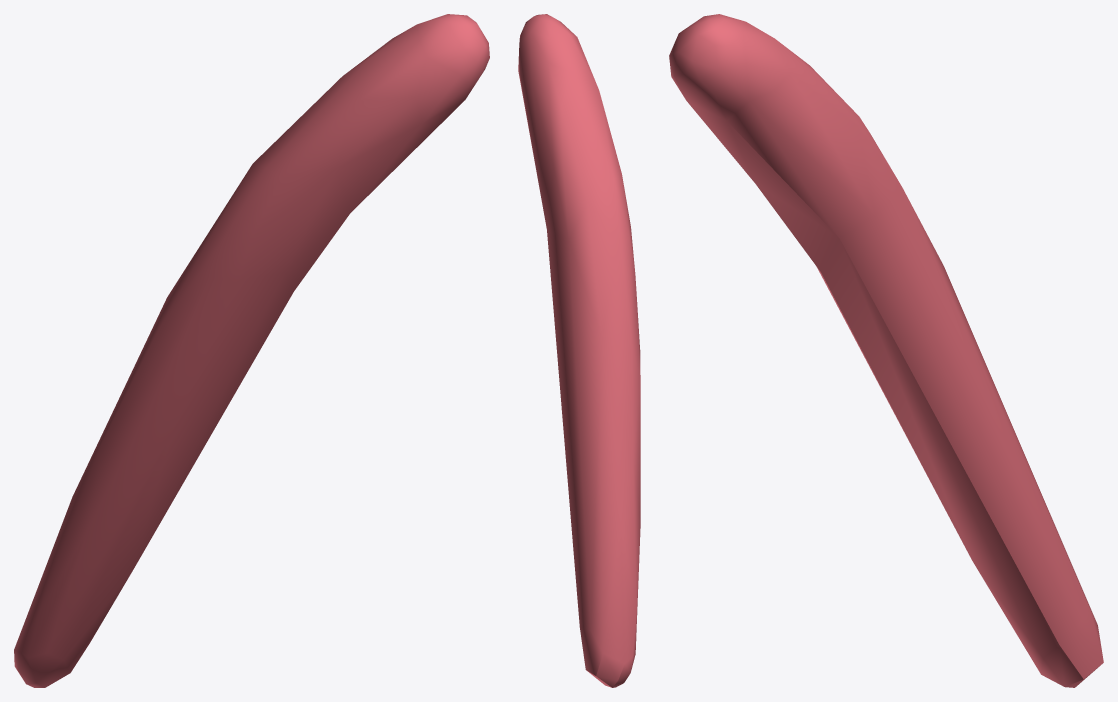
The model's file is fma9425_fj6117.glb.
3 renders of one model, left to right at view 1: azimuth 30°, elevation 25°; view 2: azimuth 150°, elevation 25°; view 3: azimuth 270°, elevation 25°, orthographic. The views are drawn at different scales.
Visible parts, largest first — view 1: FMA9425_FJ6117; view 2: FMA9425_FJ6117; view 3: FMA9425_FJ6117.
Part boxes in pixels (bbox=[...]): FMA9425_FJ6117: bbox=[14, 14, 489, 687]; FMA9425_FJ6117: bbox=[518, 14, 640, 687]; FMA9425_FJ6117: bbox=[669, 14, 1103, 687].
Size of the model in its own units: 0.0076 by 0.0172 by 0.0084.
